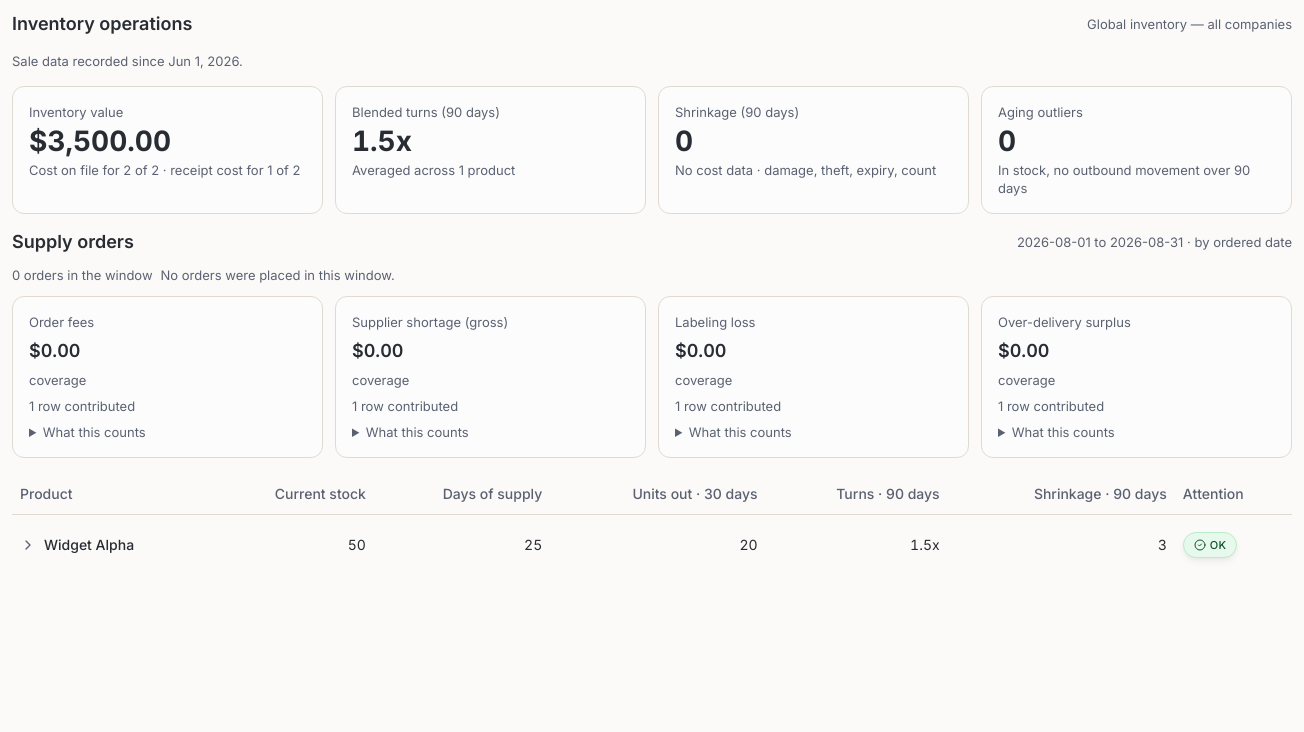
OperationsView › expanding a row reveals the detail grid (aging / receipt / corrections)
Check: the text "Inventory value" is shown, box x1=29 y1=104 x2=123 y2=120
# The first expander button (desktop table row).
What coordinates should you click on to do the following:
click the button with aria-label "Expand details for Widget Alpha"
I would click on:
 (77, 544)
Its box is x1=20 y1=522 x2=134 y2=566.
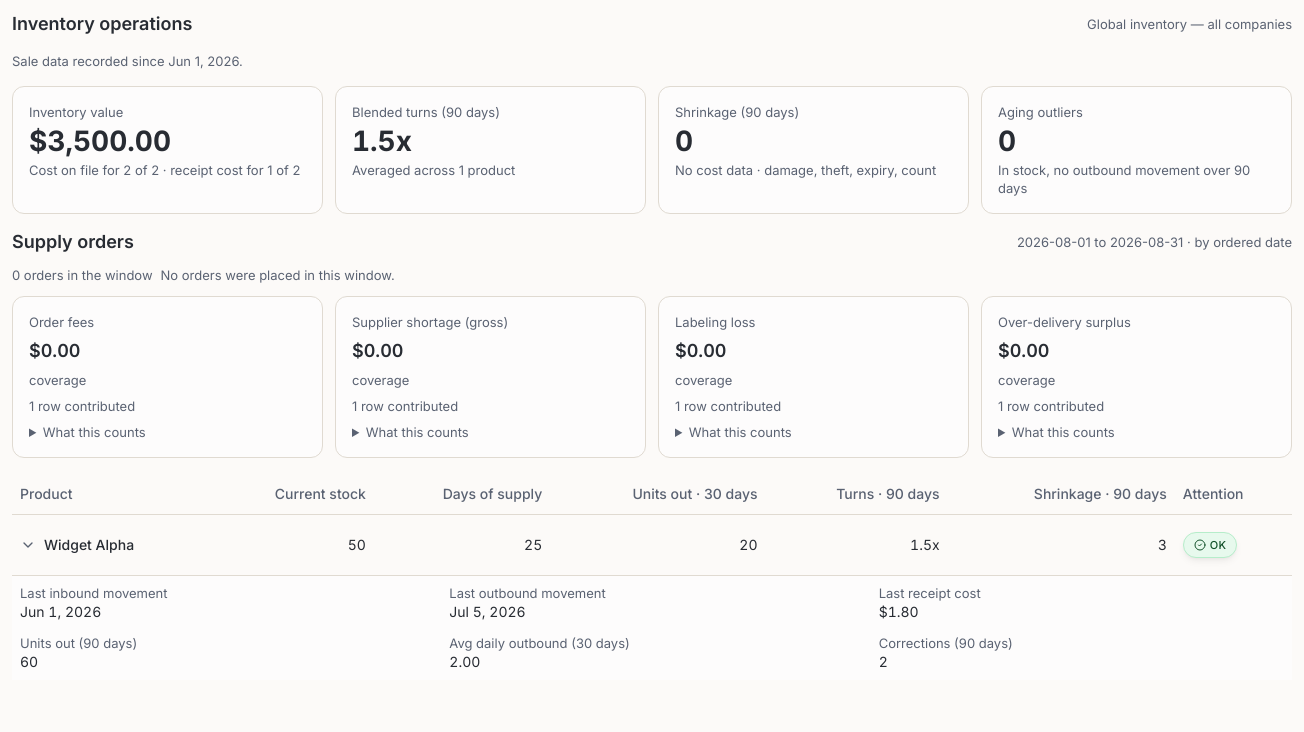
Check: the text "Last inbound movement" is shown, box x1=20 y1=584 x2=168 y2=600
Check: the text "Corrections (90 days)" is shown, box x1=879 y1=634 x2=1013 y2=650
